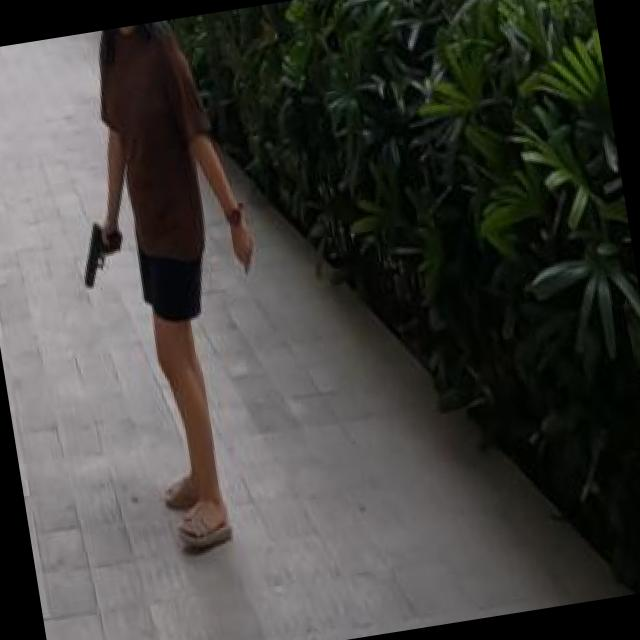Guns: (66, 207, 140, 296)
